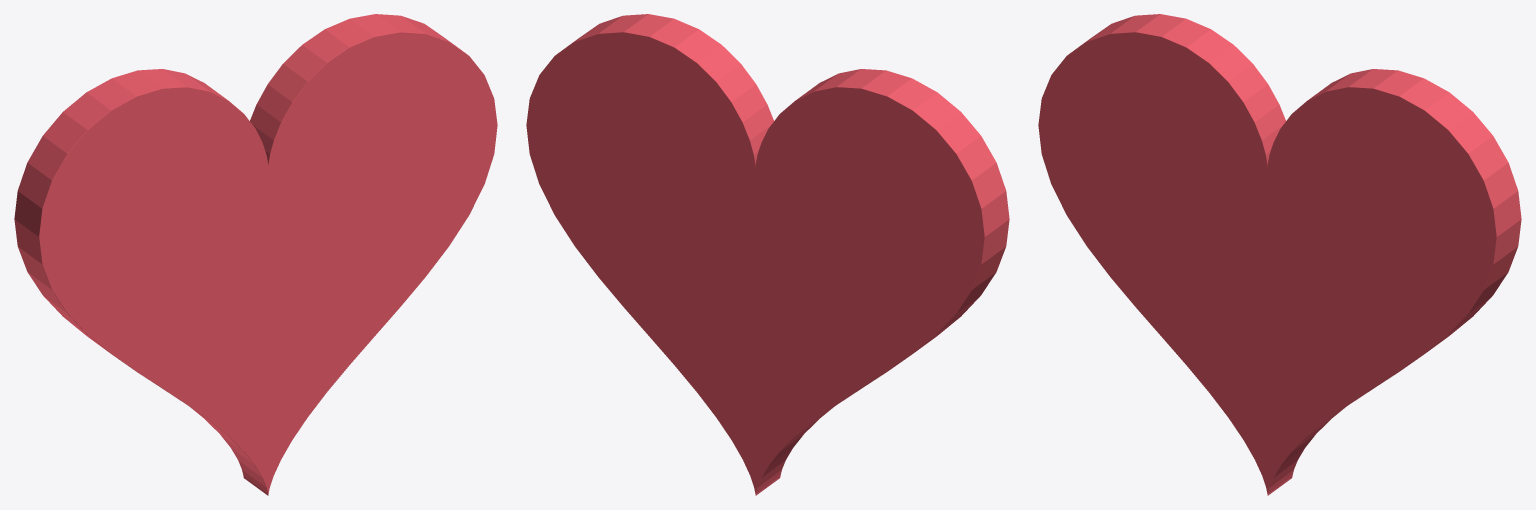
Rendered from heart_token.glb.
3 renders of one model, left to right at view 1: azimuth 30°, elevation 25°; view 2: azimuth 150°, elevation 25°; view 3: azimuth 330°, elevation 25°, orthographic.
Parts seen in each view (by area): view 1: heart_token; view 2: heart_token; view 3: heart_token.
Part boxes in pixels (left/top/right/bottom): heart_token: left=14, top=14, right=497, bottom=495; heart_token: left=526, top=14, right=1009, bottom=495; heart_token: left=1038, top=14, right=1521, bottom=495.
Bounding box in the file's own units: 0.8 × 0.7225 × 0.075.
